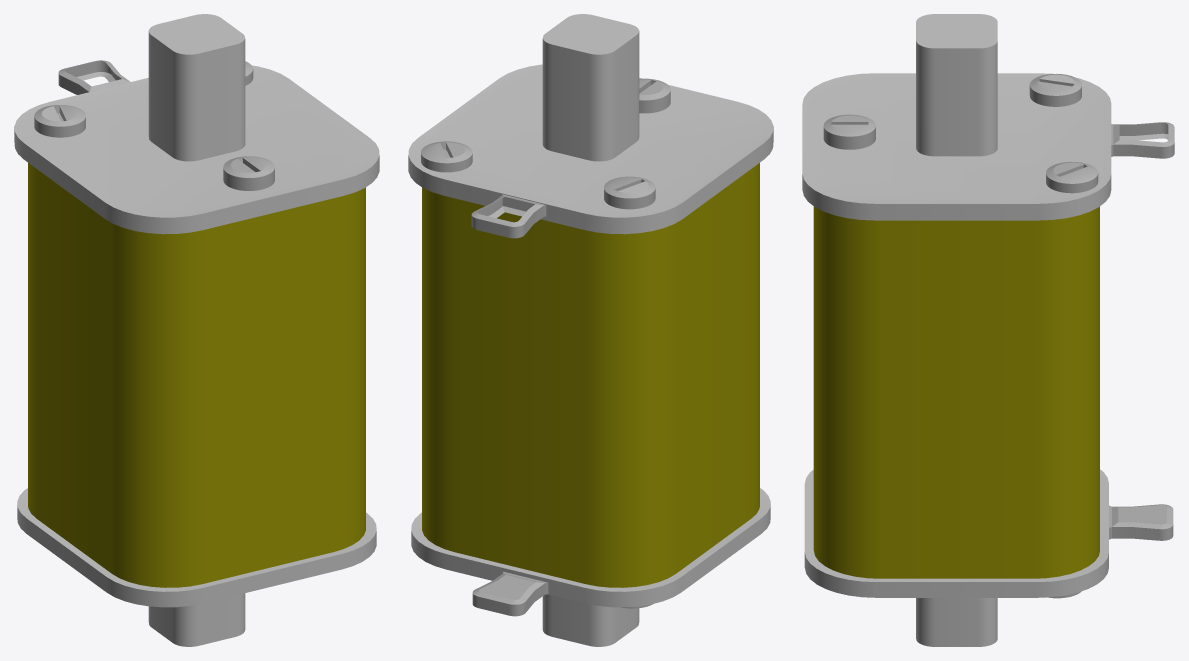
The model's file is YellowFuse.fbx.
3 renders of one model, left to right at view 1: azimuth 30°, elevation 25°; view 2: azimuth 150°, elevation 25°; view 3: azimuth 270°, elevation 25°, orthographic.
Visible parts, largest first — view 1: Fuse; view 2: Fuse; view 3: Fuse.
Boxes of the visible parts, left/top/right/bottom form: Fuse: left=14, top=14, right=379, bottom=646; Fuse: left=408, top=14, right=773, bottom=646; Fuse: left=802, top=14, right=1174, bottom=646.
Bounding box in the file's own units: 97.54 × 208 × 117.
